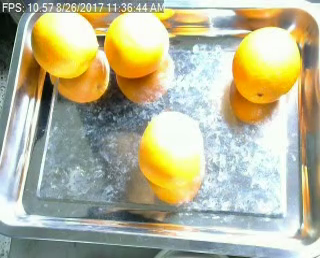Orange: (231, 25, 301, 104), (138, 111, 203, 188), (30, 10, 99, 79), (103, 12, 170, 79)
